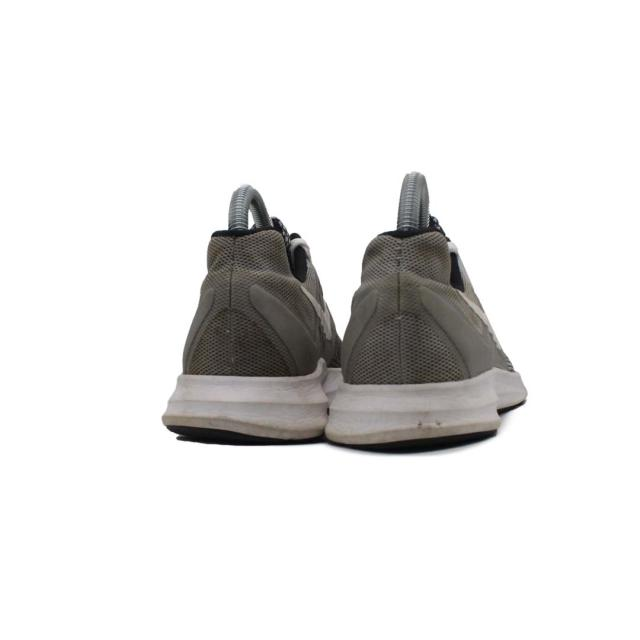heel: (355, 220, 498, 382), (191, 201, 315, 374)
midsole: (170, 377, 521, 444)
